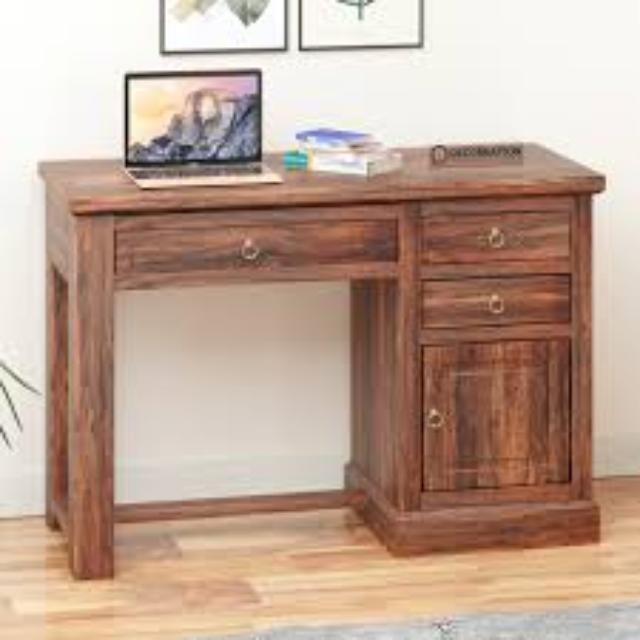obstacle: (371, 106, 624, 556)
